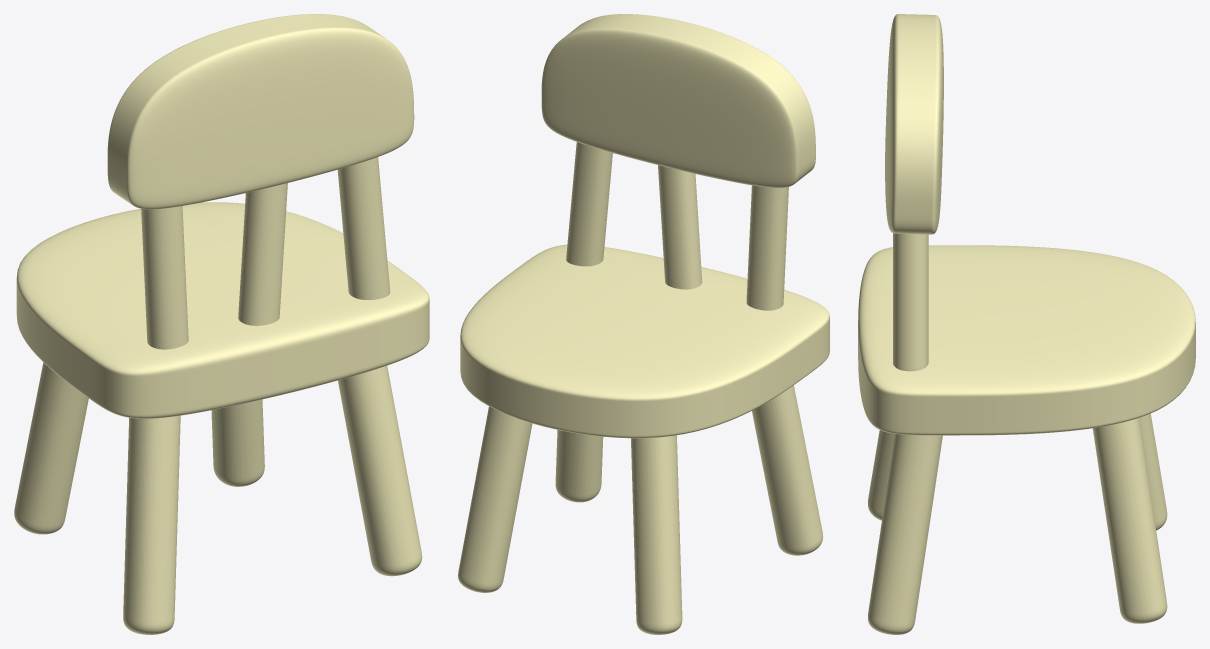
File: Silla madera.fbx
The picture shows the model from 3 angles, left to right: view 1: azimuth 30°, elevation 25°; view 2: azimuth 150°, elevation 25°; view 3: azimuth 270°, elevation 25°; orthographic projection. The views are drawn at different scales.
Visible parts, largest first — view 1: Plane, Plane.001, Cube, Cube.001, Cube.002, Cube.004, Cube.003; view 2: Plane, Plane.001, Cube.001, Cube, Cube.002, Cube.004, Cube.003; view 3: Plane, Plane.001, Cube.001, Cube, Cube.003.
Part boxes in pixels (<box>): Plane: <box>16,202,429,418</box>; Plane.001: <box>107,14,414,209</box>; Cube: <box>123,365,422,634</box>; Cube.001: <box>14,362,264,534</box>; Cube.002: <box>141,206,188,349</box>; Cube.004: <box>238,183,287,325</box>; Cube.003: <box>337,157,390,299</box>; Plane: <box>460,244,829,438</box>; Plane.001: <box>541,14,815,187</box>; Cube.001: <box>458,406,682,634</box>; Cube: <box>555,385,823,555</box>; Cube.002: <box>746,185,788,310</box>; Cube.004: <box>658,165,702,289</box>; Cube.003: <box>566,142,612,266</box>; Plane: <box>858,245,1195,435</box>; Plane.001: <box>885,14,943,234</box>; Cube.001: <box>1092,413,1167,623</box>; Cube: <box>868,430,942,634</box>; Cube.003: <box>893,233,928,371</box>.
Size of the model in its own units: 200 by 333 by 192.
